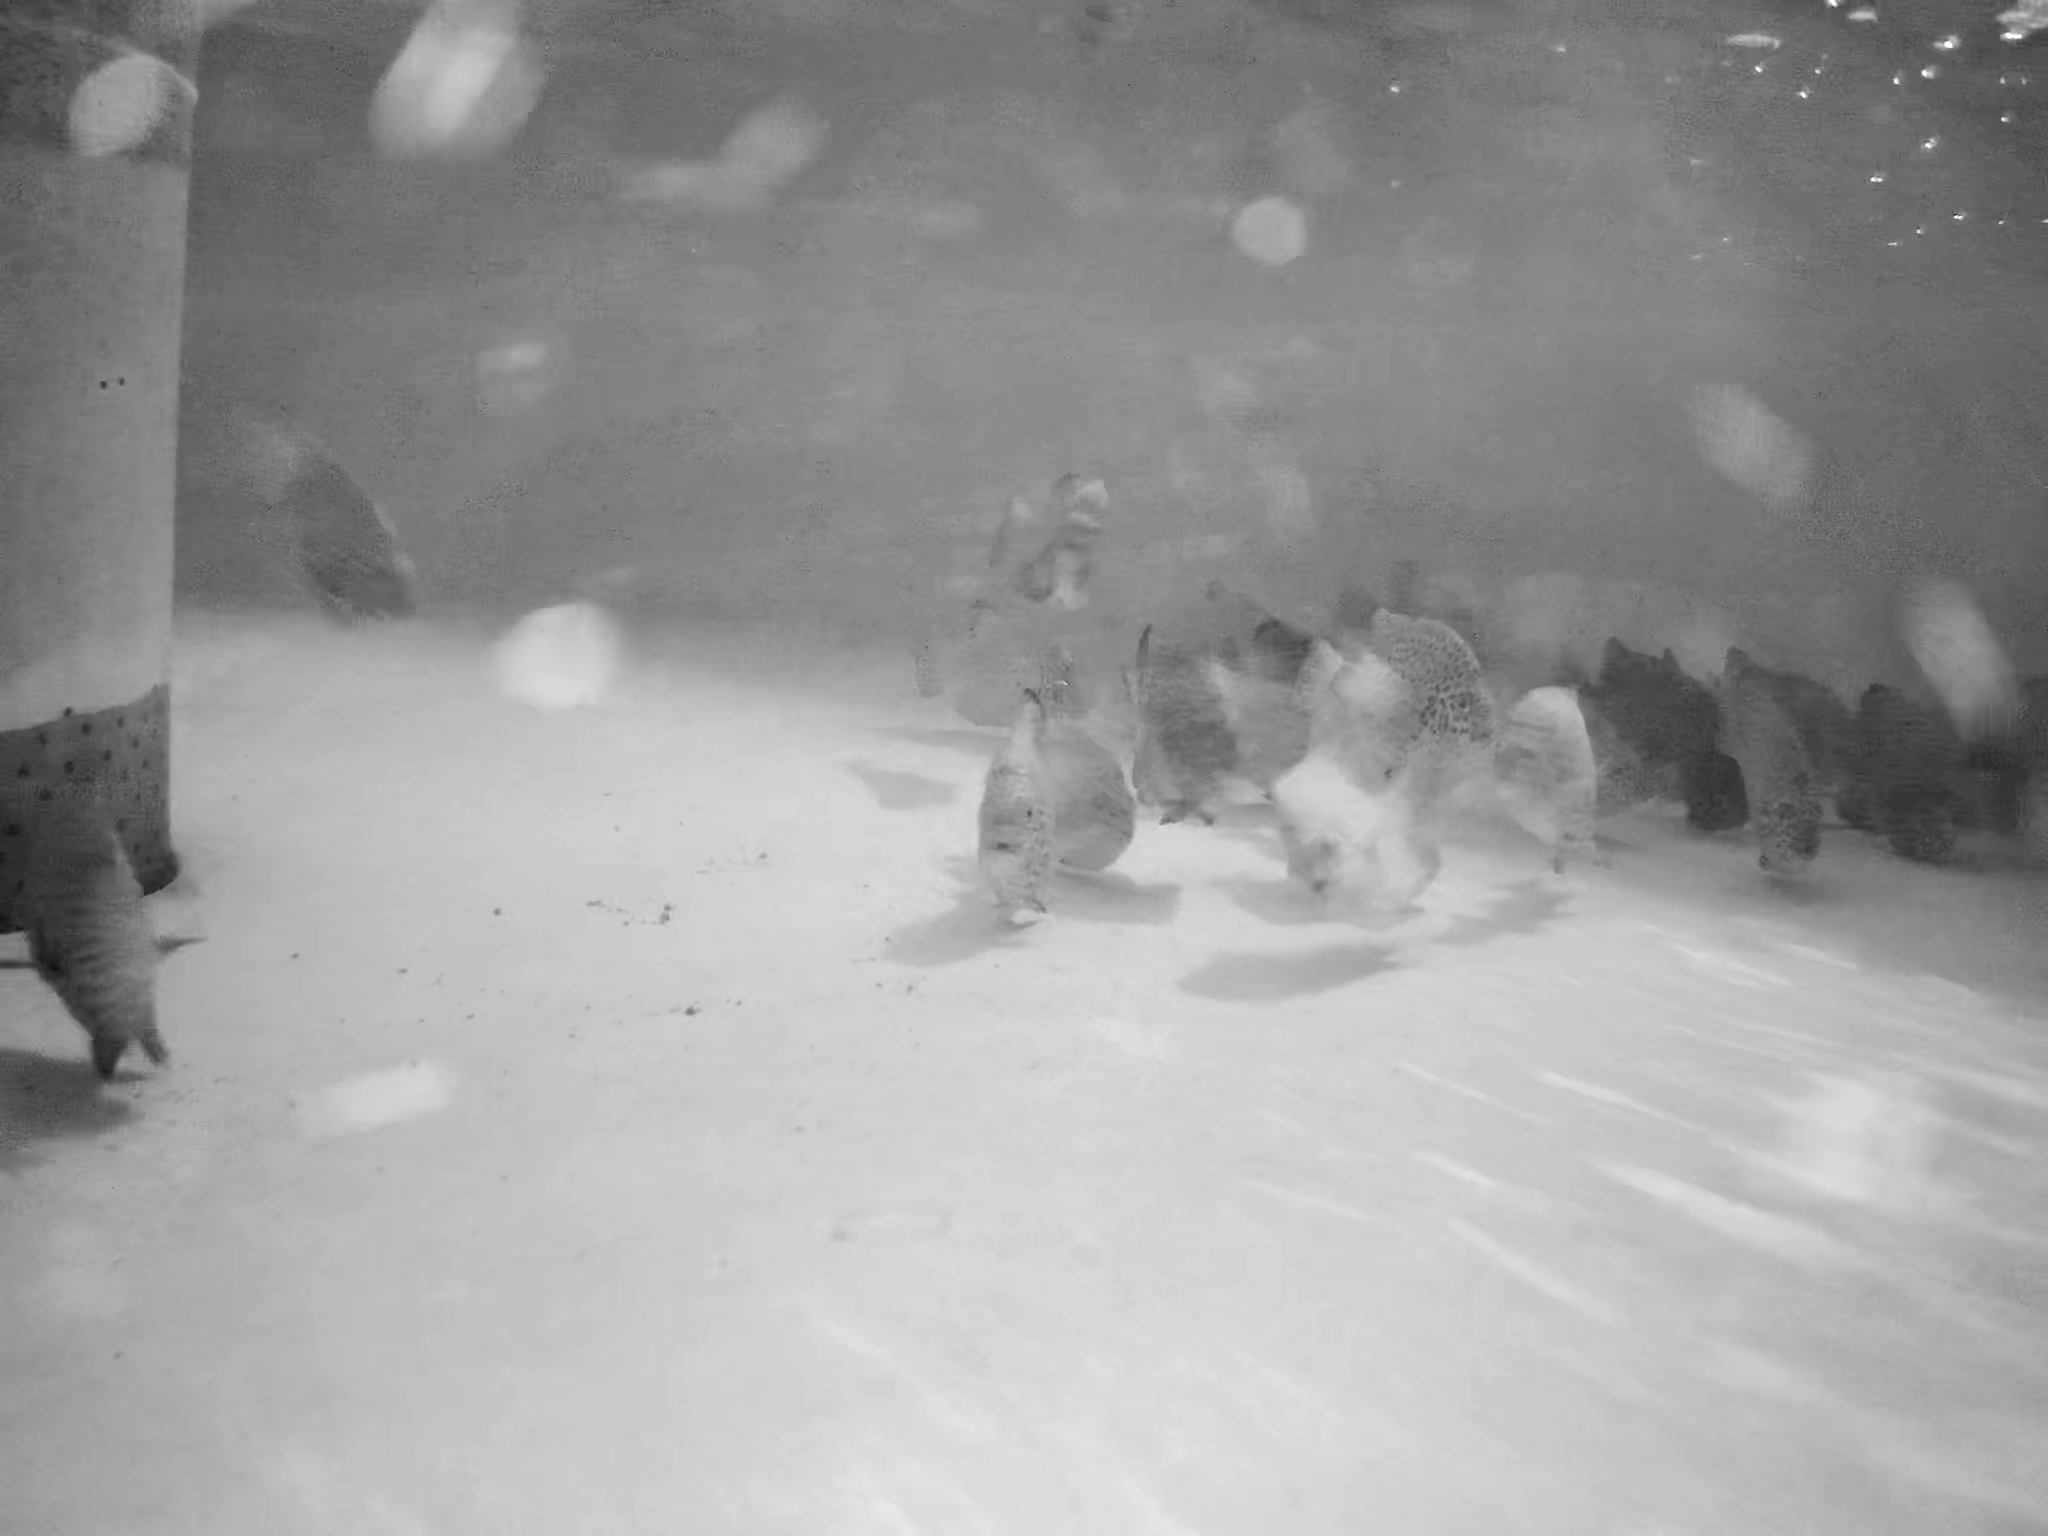fish: (27, 765, 216, 1102), (1850, 687, 2048, 871), (1455, 666, 1638, 860), (1222, 608, 1414, 787), (1268, 758, 1459, 921), (922, 702, 1071, 907), (1358, 595, 1534, 758), (1716, 663, 1838, 894), (281, 436, 398, 641), (1588, 636, 1722, 803), (1029, 715, 1150, 894), (1142, 636, 1243, 836), (1000, 481, 1129, 632)
